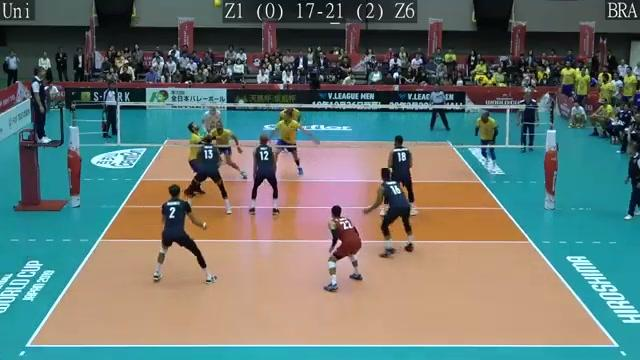ball: (214, 0, 225, 7)
